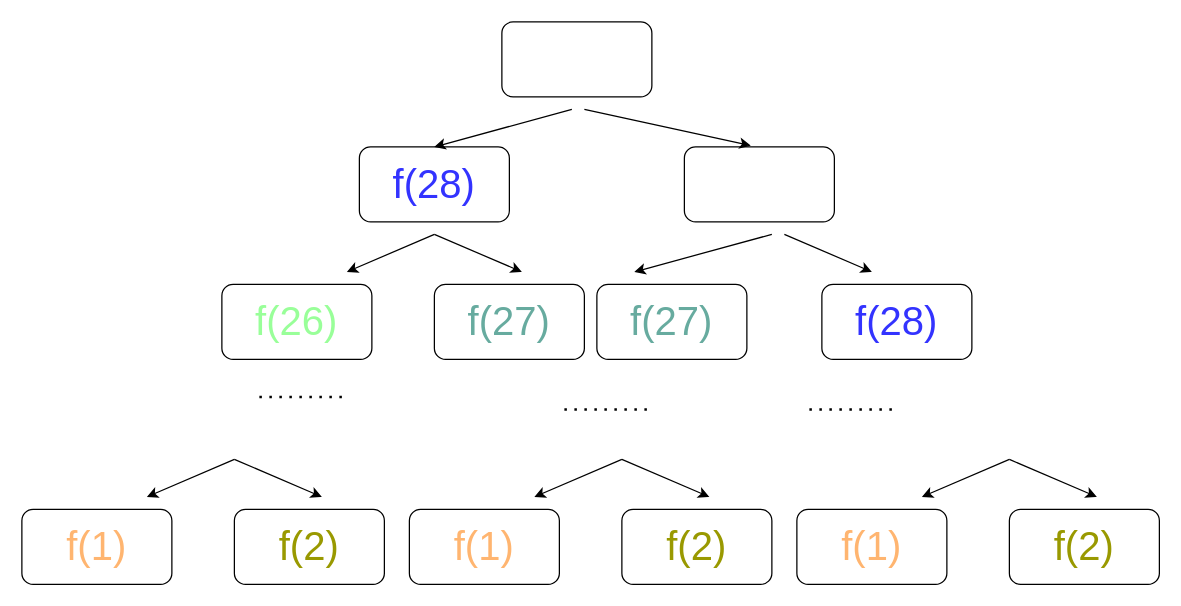
The diagram is 1181 pixels wide and 606 high, and some of its shapes have lost their labels. Each missing label, with the centre of its shape:
"f(29)" goes at point (758, 184).
"f(30)" goes at point (576, 59).
